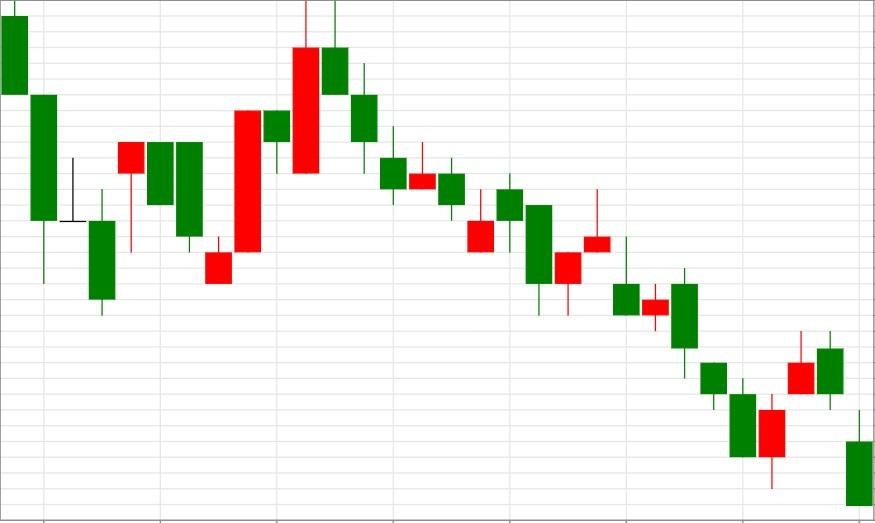bearish_engulfing_fall: (757, 331, 845, 489)
hanging_man_fall: (88, 141, 146, 316)
shooting_star_fall: (525, 189, 612, 316)
three_black_crows_fall: (205, 0, 408, 285)
